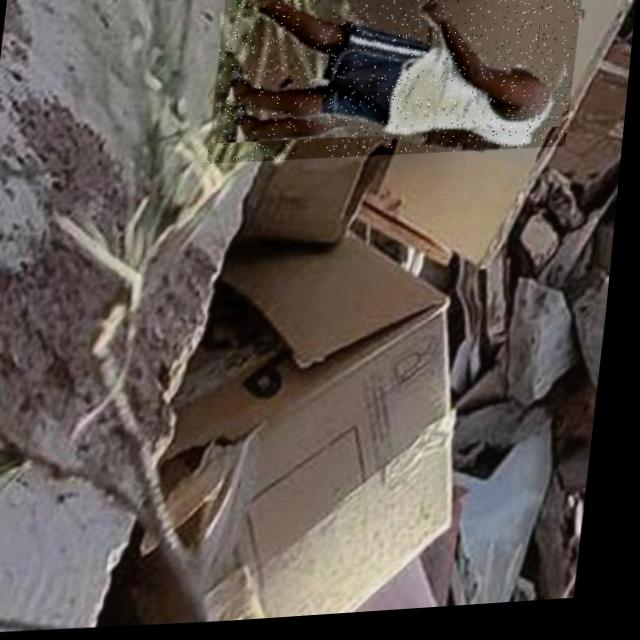Person in Rubble: (208, 0, 584, 172)
